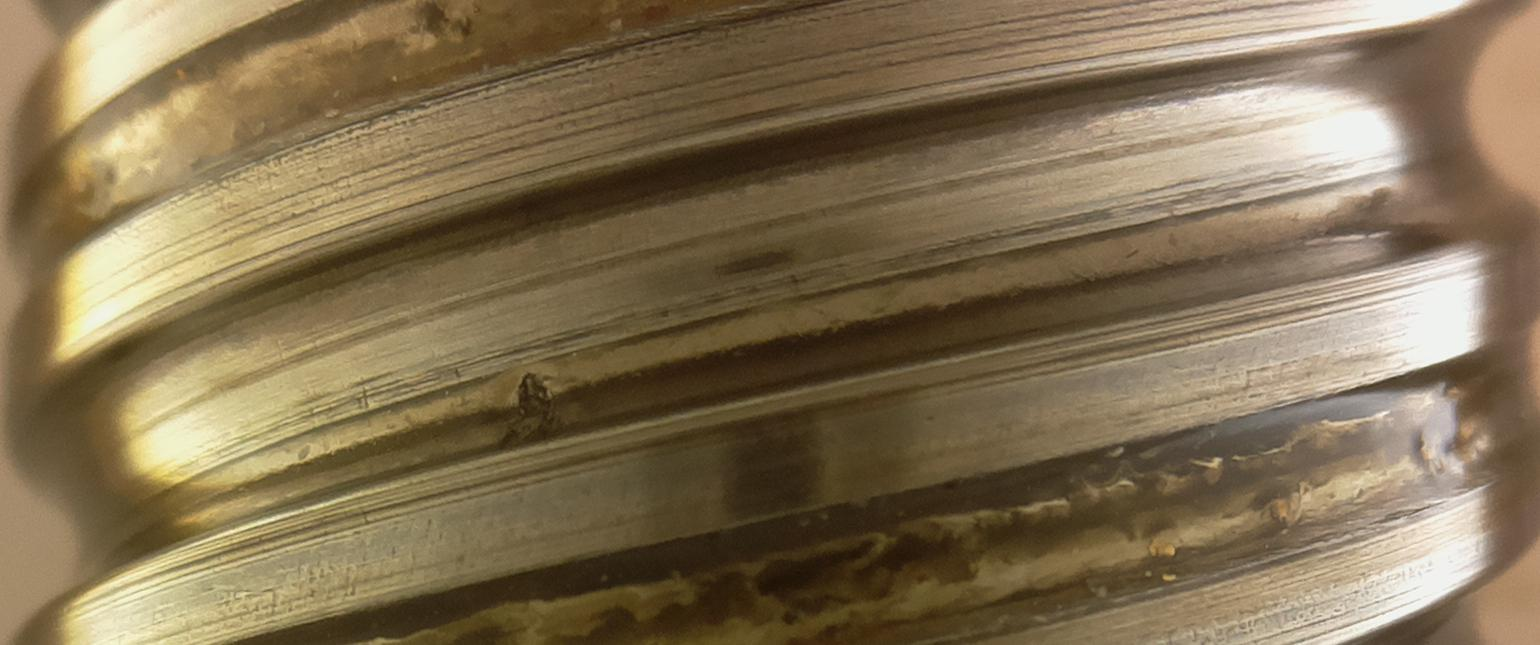pitting: (495, 373, 565, 450)
